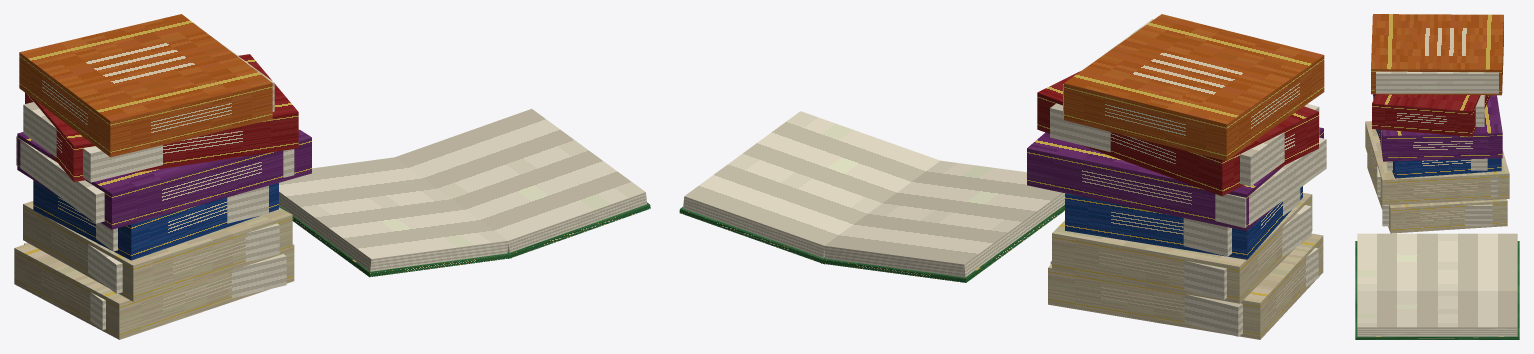
File: PSX_ShelvesPropsNormalItemsBookPile.glb
3 renders of one model, left to right at view 1: azimuth 30°, elevation 25°; view 2: azimuth 150°, elevation 25°; view 3: azimuth 270°, elevation 25°, orthographic. The views are drawn at different scales.
Parts seen in each view (by area): view 1: BookPile; view 2: BookPile; view 3: BookPile.
Boxes of the visible parts, <box> form: BookPile: <box>14,14,650,339</box>; BookPile: <box>679,14,1326,339</box>; BookPile: <box>1355,14,1519,339</box>.
Size of the model in its own units: 0.5513 by 0.2156 by 0.205.
Materials: 7 (7 with a texture image).
